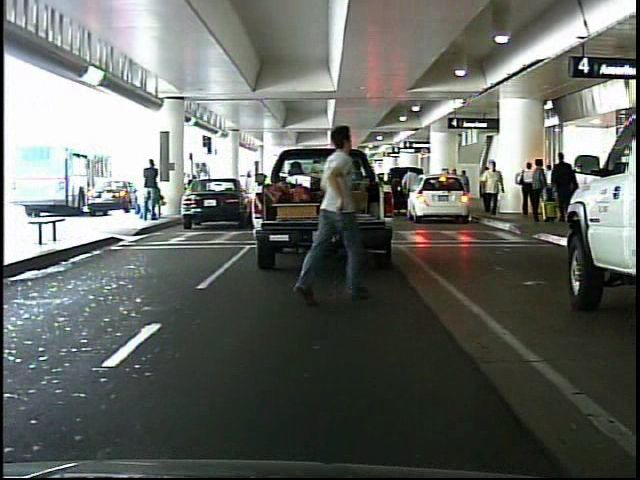person: (284, 121, 370, 321), (478, 157, 508, 227), (553, 150, 578, 225), (516, 156, 540, 221), (144, 158, 167, 220), (532, 158, 552, 225)
